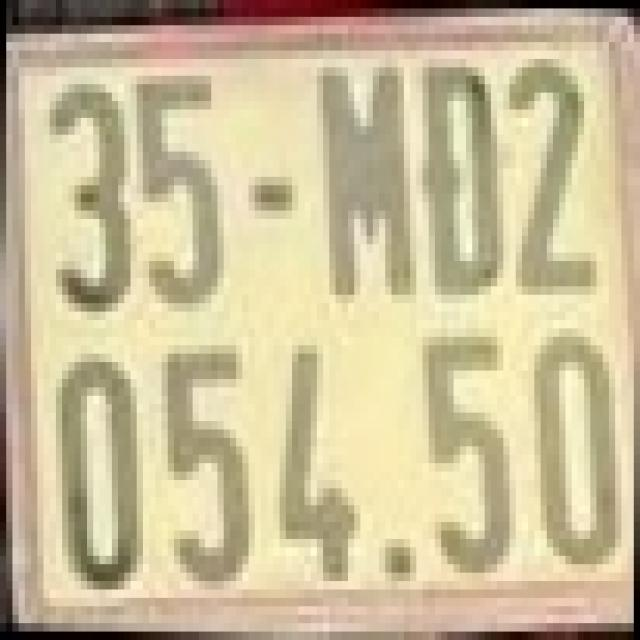0: (534, 328, 622, 572), (416, 59, 504, 295), (56, 353, 143, 590)
2: (503, 51, 603, 294)
3: (44, 76, 136, 312)
4: (274, 337, 360, 581)
5: (416, 328, 516, 572), (162, 337, 255, 581), (137, 68, 230, 312)
M: (308, 46, 413, 308)
